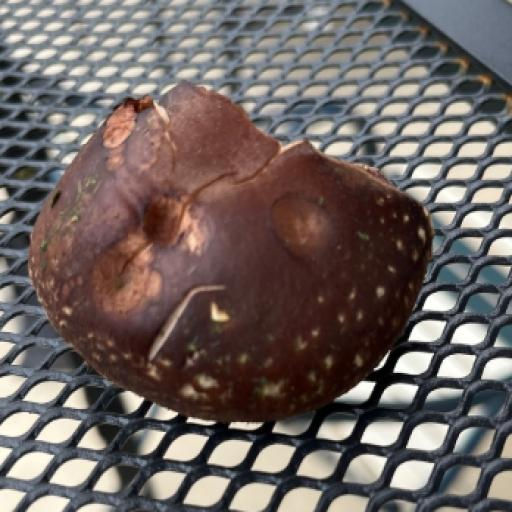Shiitake Mushroom: (0, 52, 453, 487)
